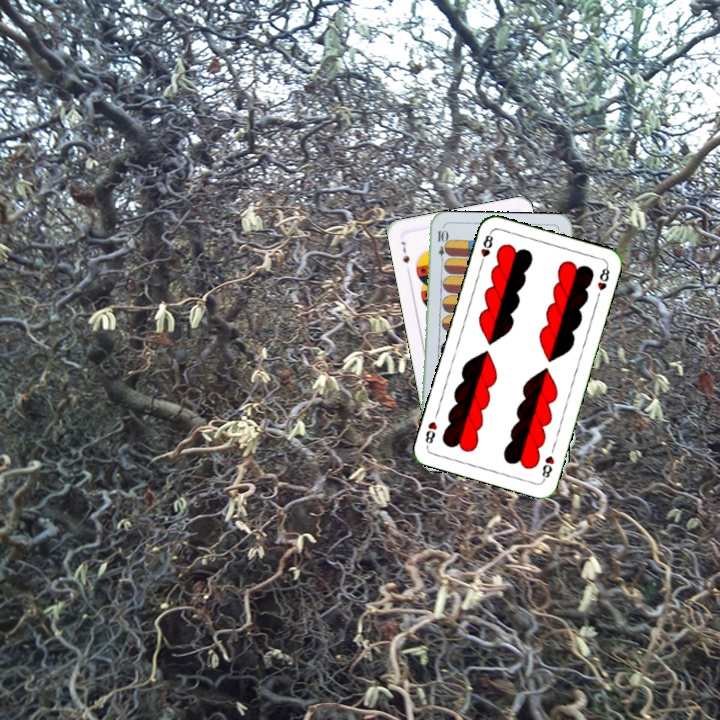E10: (434, 226, 448, 267)
H8: (476, 228, 496, 268), (538, 451, 557, 483)
S7: (397, 237, 412, 266)
